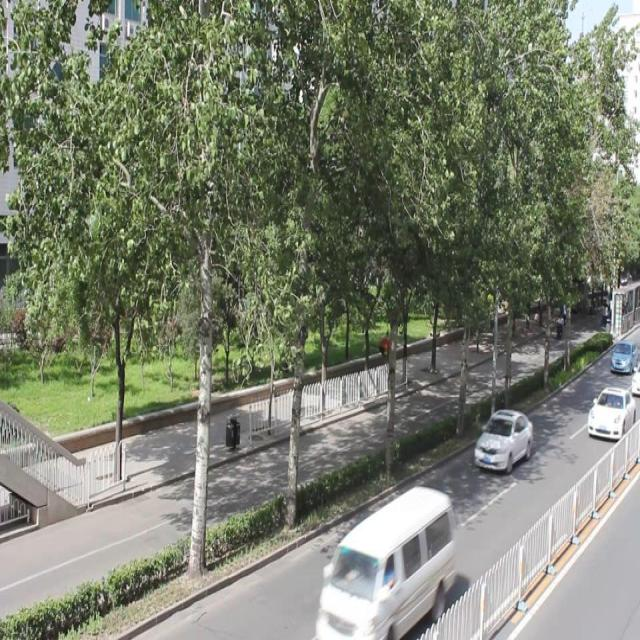car: (472, 408, 532, 473), (585, 386, 640, 442)
truck: (313, 484, 455, 640)
